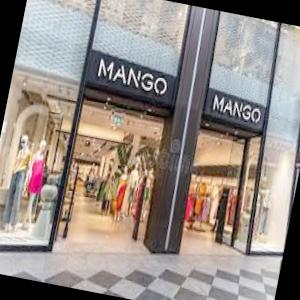mango: (92, 52, 173, 104), (206, 82, 268, 129)
